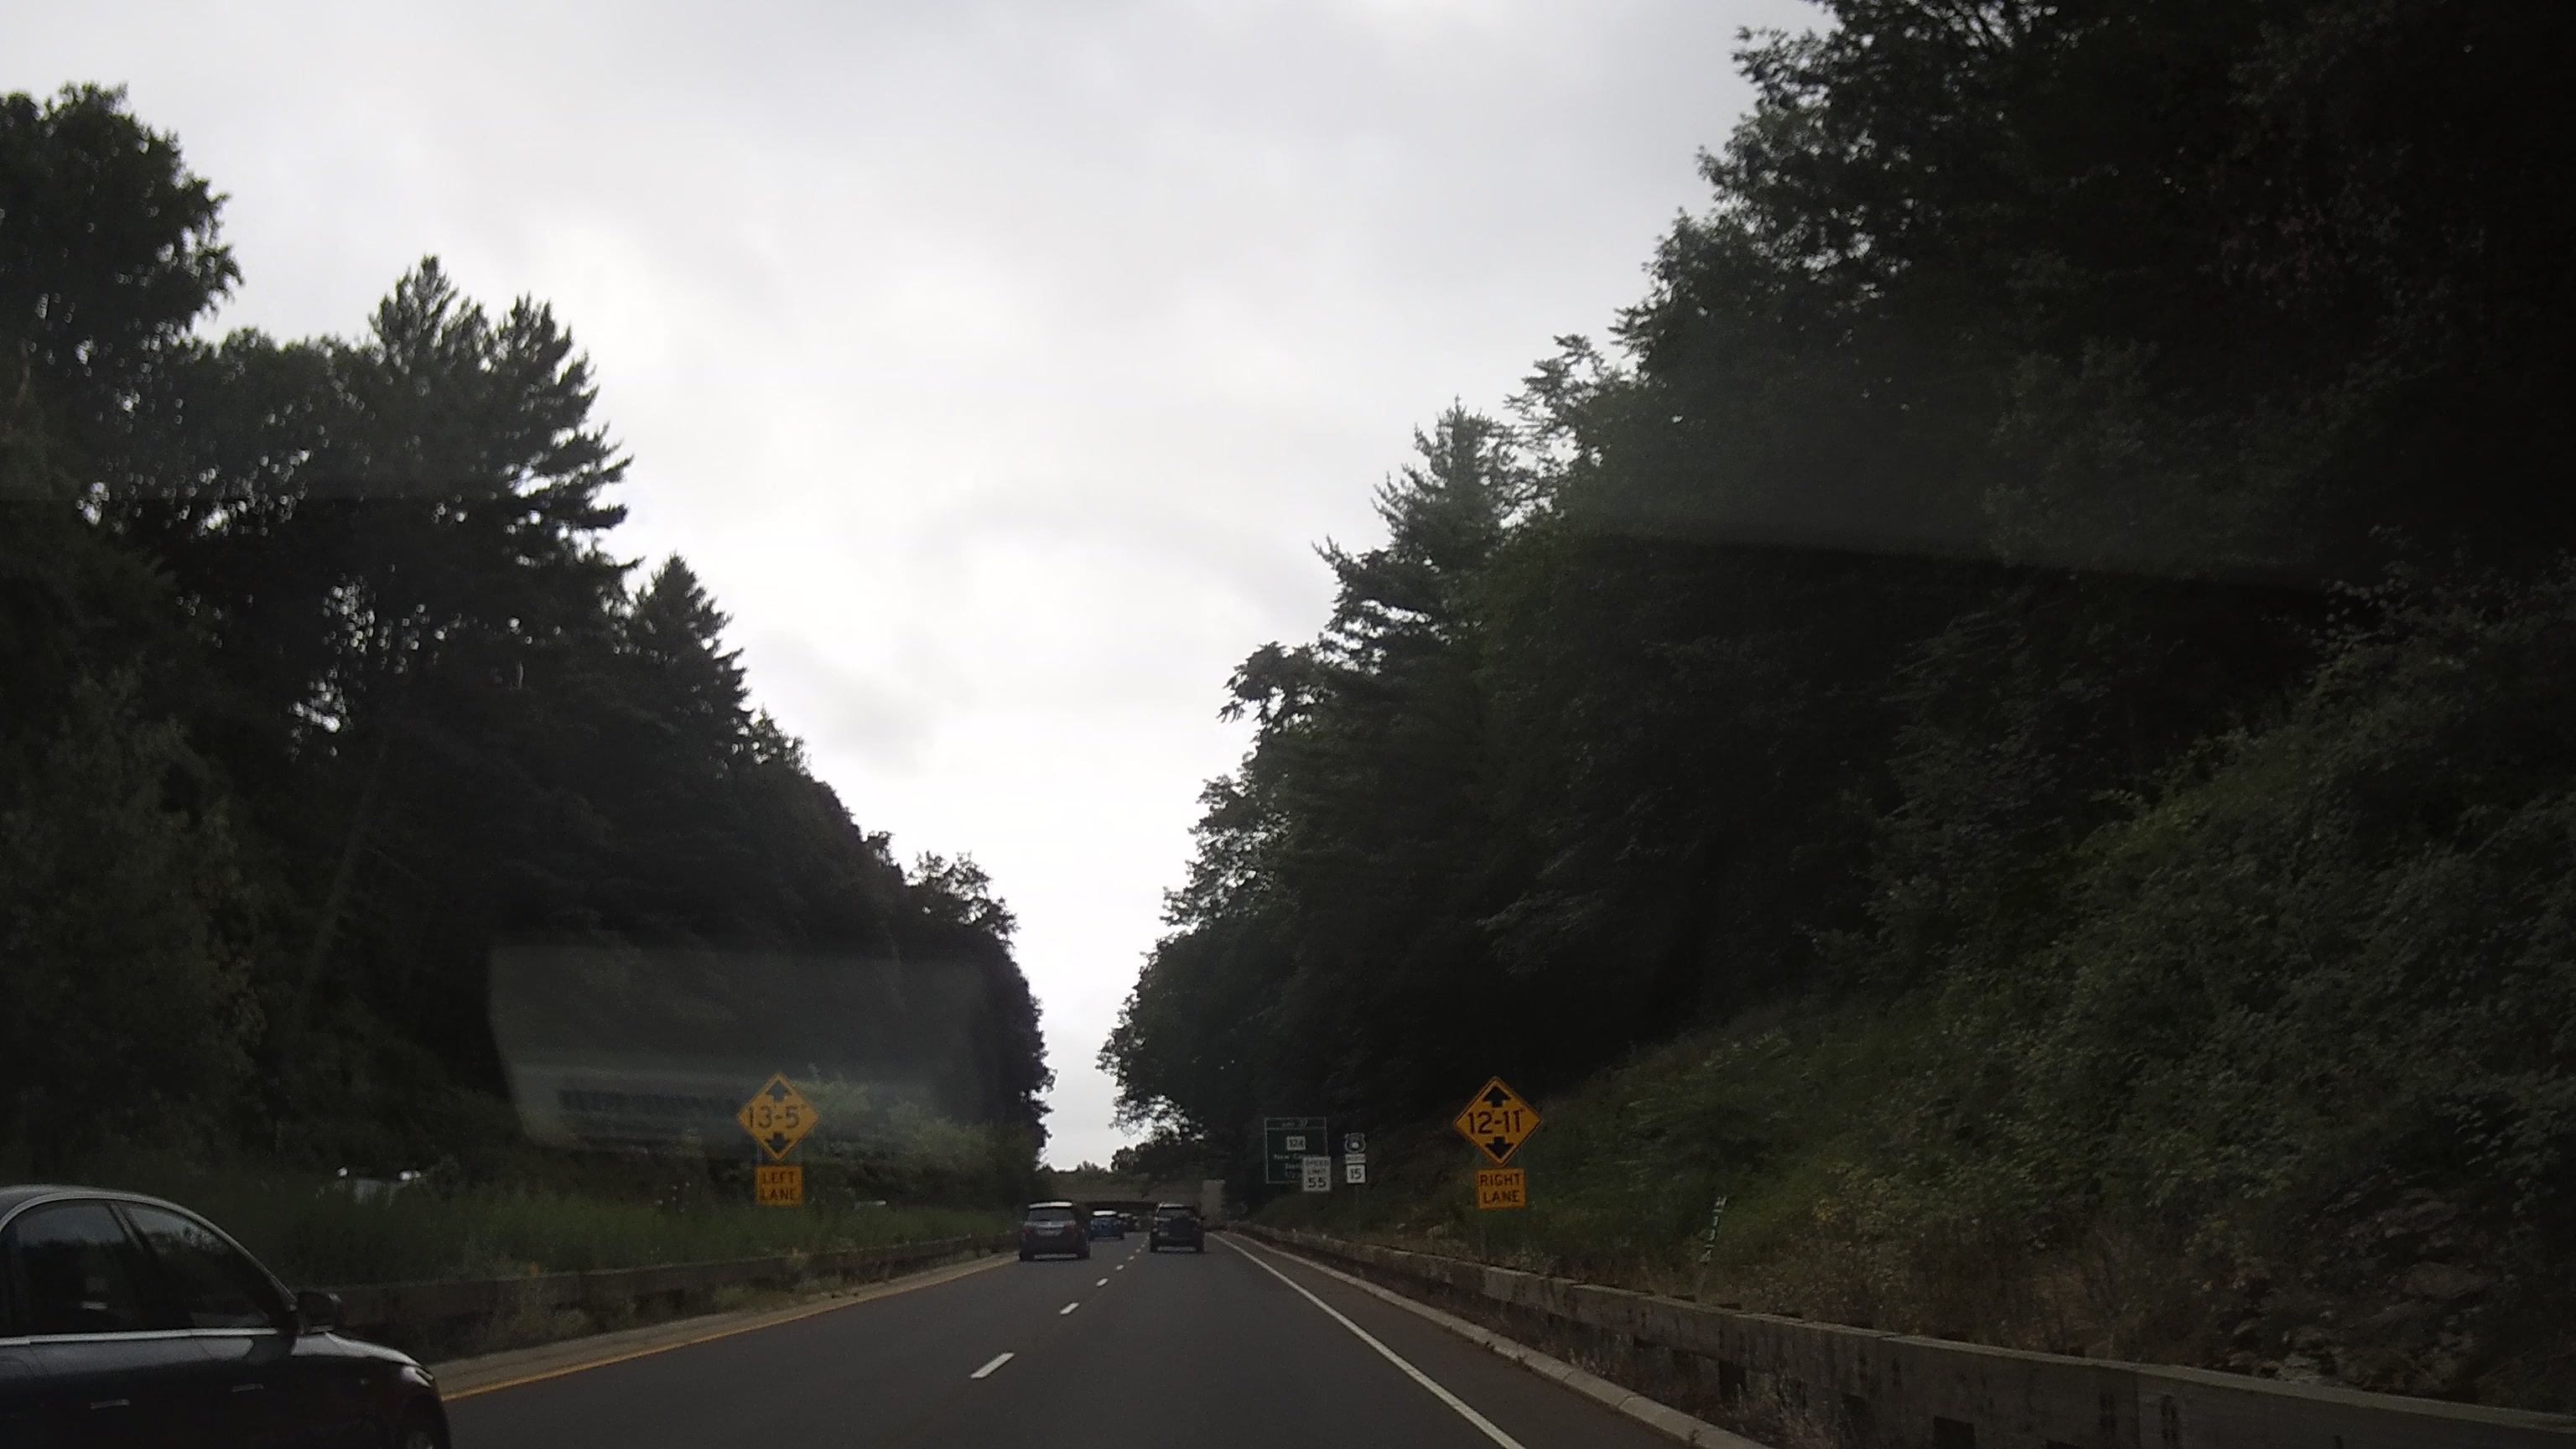low-clearance-sign: (1453, 1076, 1545, 1168), (734, 1070, 823, 1166)
